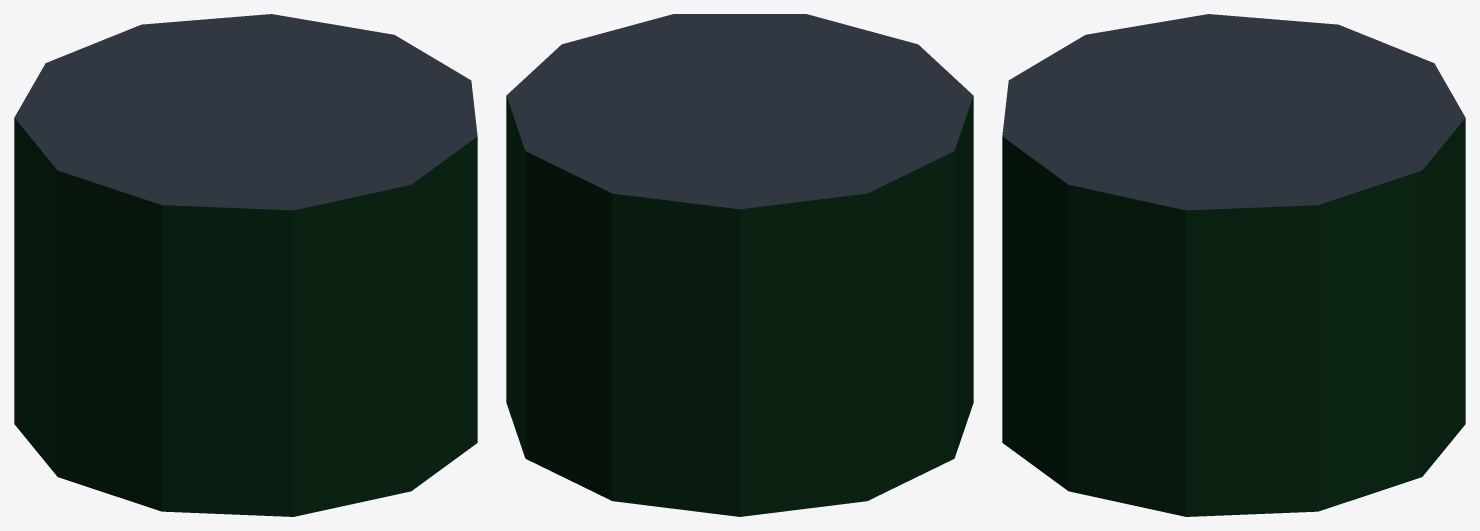
Rendered from Makizushi.fbx.
3 renders of one model, left to right at view 1: azimuth 30°, elevation 25°; view 2: azimuth 150°, elevation 25°; view 3: azimuth 270°, elevation 25°, orthographic.
Visible parts, largest first — view 1: Sushi_Roll3; view 2: Sushi_Roll3; view 3: Sushi_Roll3.
Boxes of the visible parts, box(x1,y1,x2,y2) form: Sushi_Roll3: box(14, 14, 477, 516); Sushi_Roll3: box(506, 14, 973, 516); Sushi_Roll3: box(1002, 14, 1465, 516).
Size of the model in its own units: 1.98 by 1.44 by 1.97.
